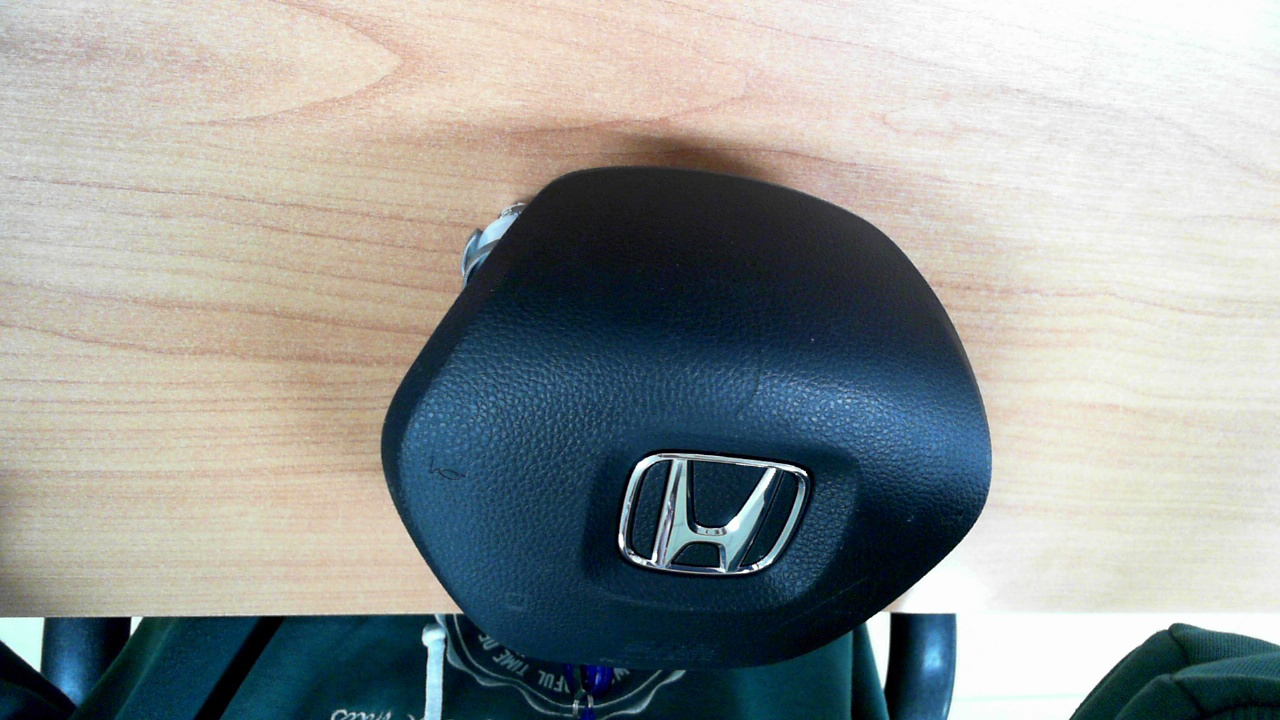Airbag: (380, 167, 995, 670)
Honda: (617, 452, 808, 575)
